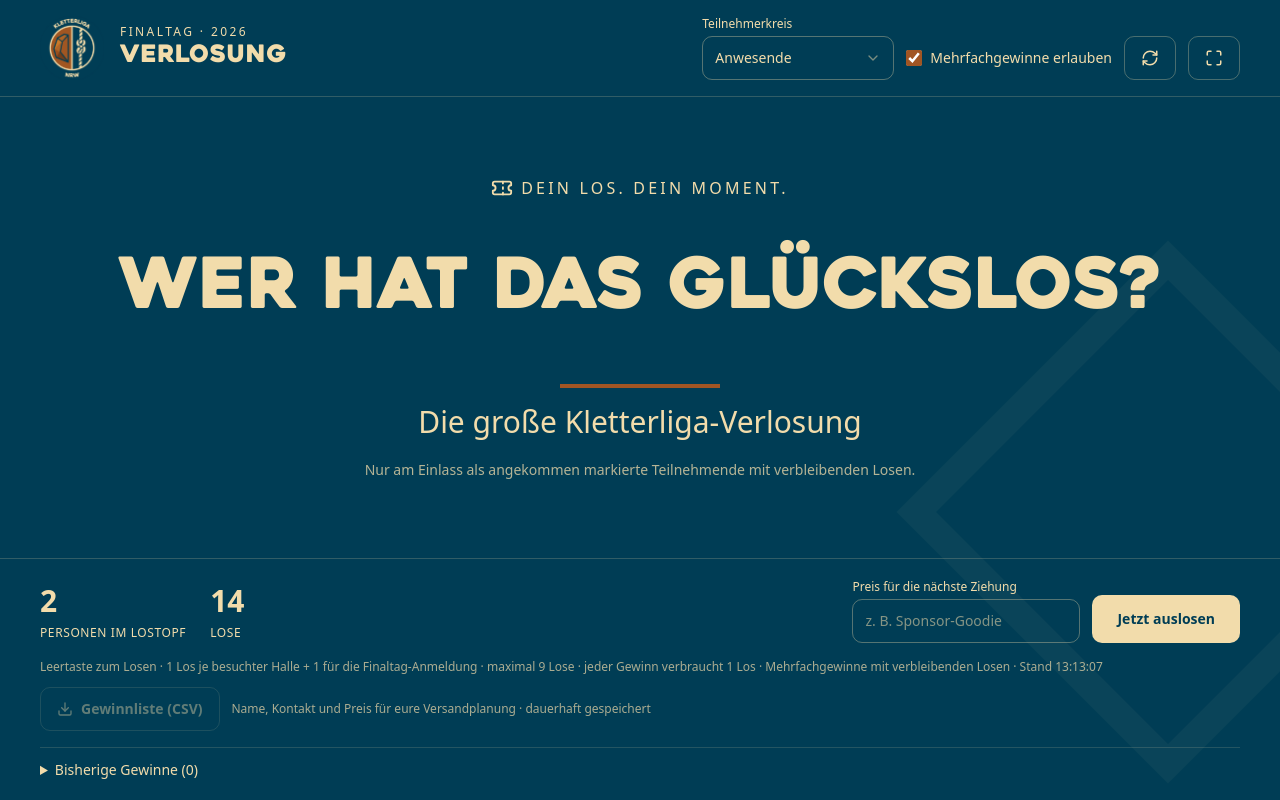
Test: TV raffle › shows the consumed ticket and permanently saved prize after a draw
Click the button "Jetzt auslosen".
click(1166, 619)  # box [1092,595,1240,643]
Wait 4000 ms
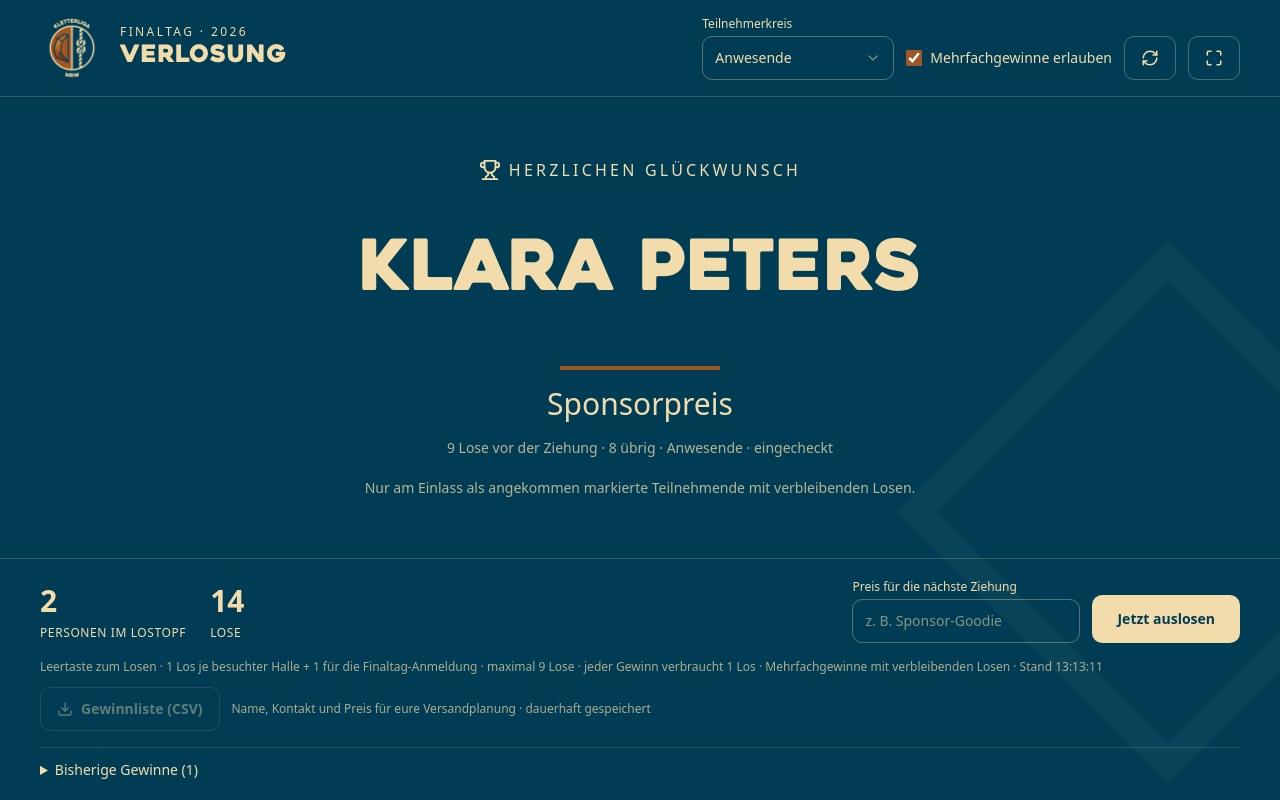
Expected: the text "9 Lose vor der Ziehung · 8 übrig · Anwesende · eingecheckt" is shown, [447,438,833,458]
Expected: the text "Sponsorpreis" is shown, [547,386,733,422]
